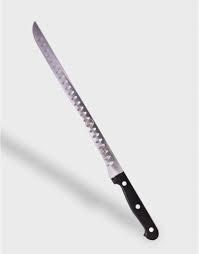knife: (29, 16, 165, 242)
